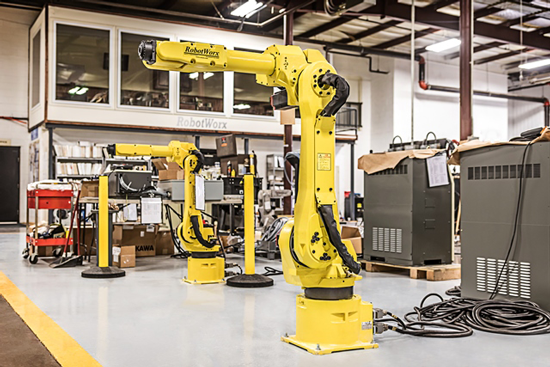robot: (137, 40, 383, 353), (106, 142, 227, 285)
